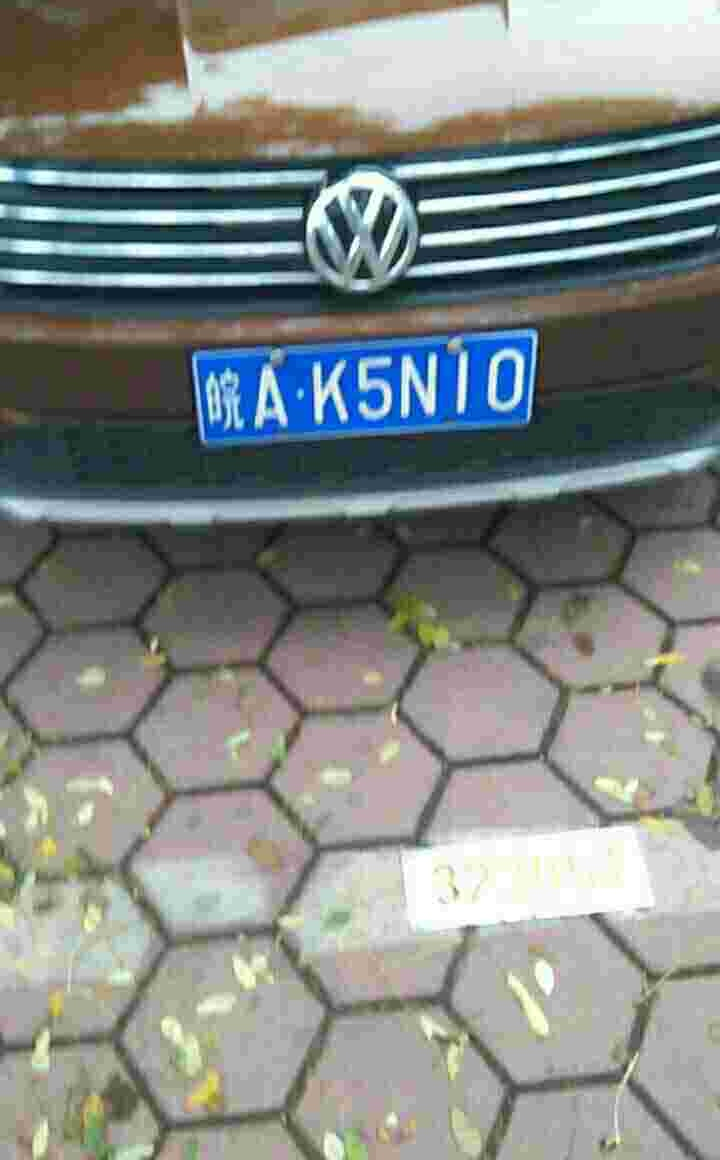license_plate: (178, 320, 560, 460)
